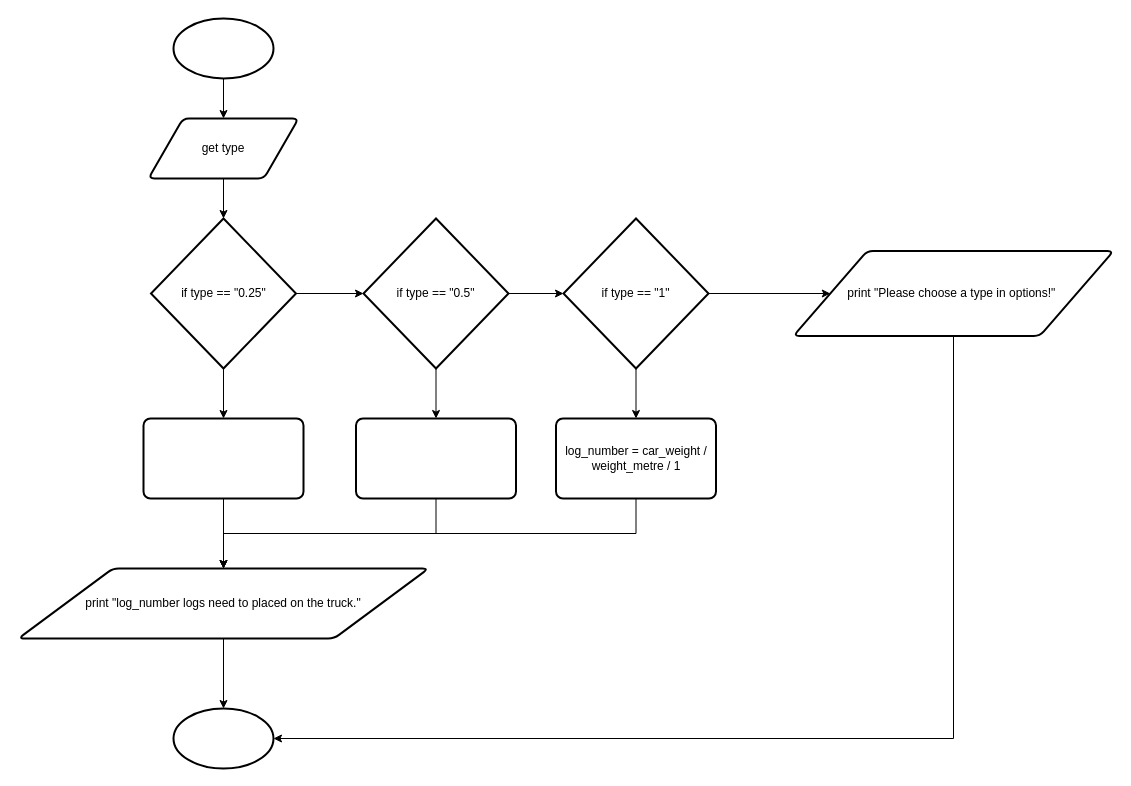
Image size: 1131x786. Some labels were removed from this diagram. The box of each missing label's shape, as (x1, y1, x2, y2) in pixels:
log_number = car_weight / weight_metre / 0.25: (142, 417, 304, 499)
log_number = car_weight / weight_metre / 0.5: (354, 417, 516, 499)
Start: (172, 17, 274, 79)
Stop: (172, 707, 274, 769)
